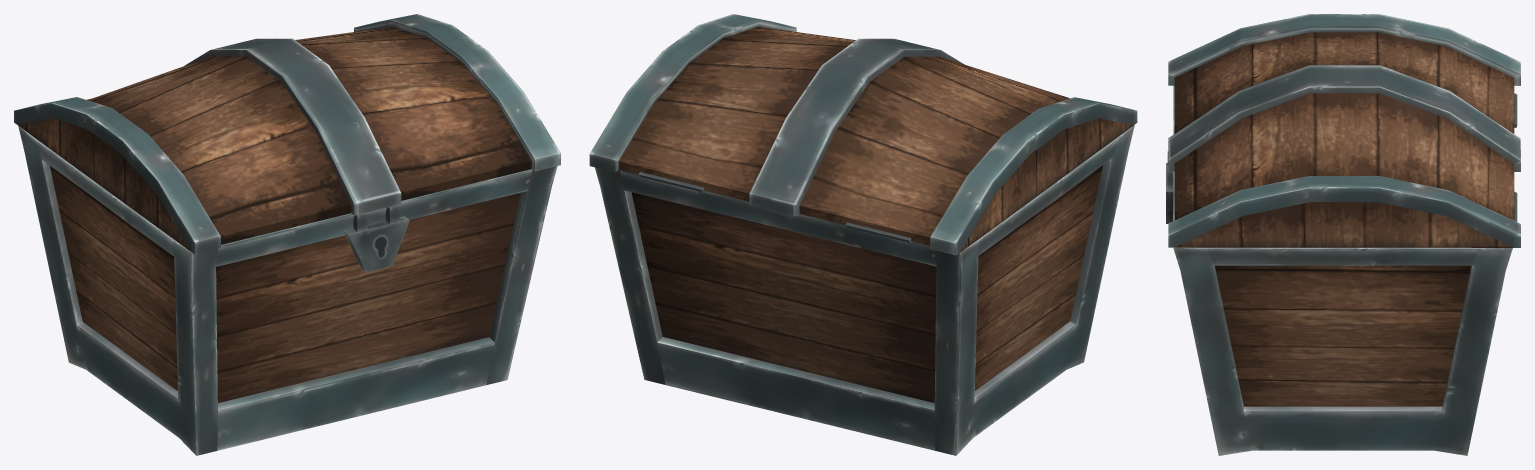
Rendered from chest_005.FBX.
The picture shows the model from 3 angles, left to right: view 1: azimuth 30°, elevation 25°; view 2: azimuth 150°, elevation 25°; view 3: azimuth 270°, elevation 25°; orthographic projection. The views are drawn at different scales.
Parts seen in each view (by area): view 1: chest_0053, chest; view 2: chest_0053, chest; view 3: chest, chest_0053.
Boxes of the visible parts, x1,y1,x2,y2 form: chest_0053: (18,126,557,455); chest: (14,14,560,254); chest_0053: (595,124,1134,455); chest: (589,14,1137,255); chest: (1168,14,1520,247); chest_0053: (1166,85,1517,455).
Size of the model in its own units: 15.34 by 12.42 by 13.07.
